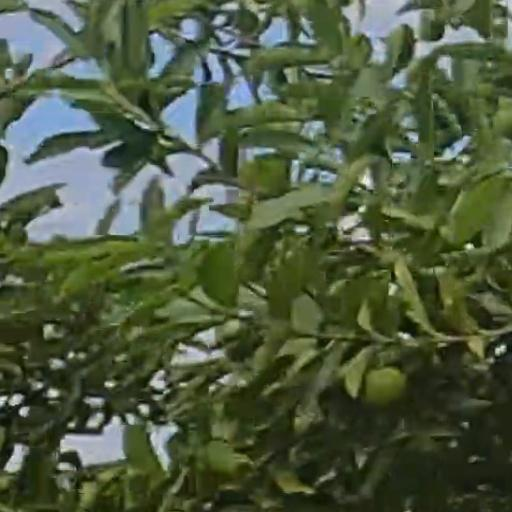acerola: (366, 367, 399, 403)
